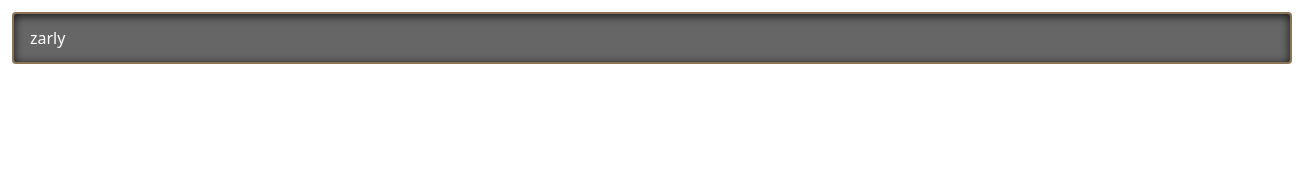
Test: keeps direct search available and exposes suggestion errors
Later steps or results of the test are not shown.
Focus the dropdown named "Character name" at {"x": 652, "y": 38}, box top-left (12, 12), bottom-right (1292, 64)
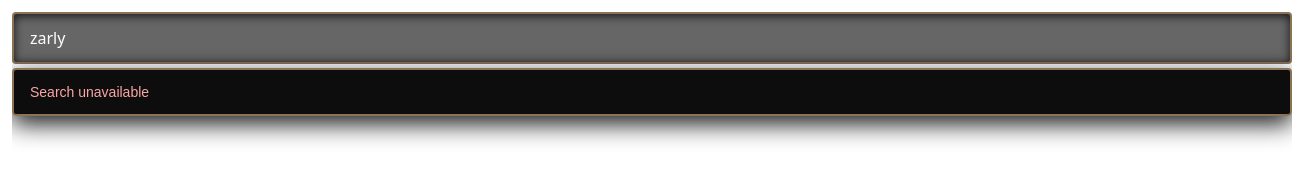
Expected: the message reads "Search unavailable", top-left (30, 84), bottom-right (149, 100)
